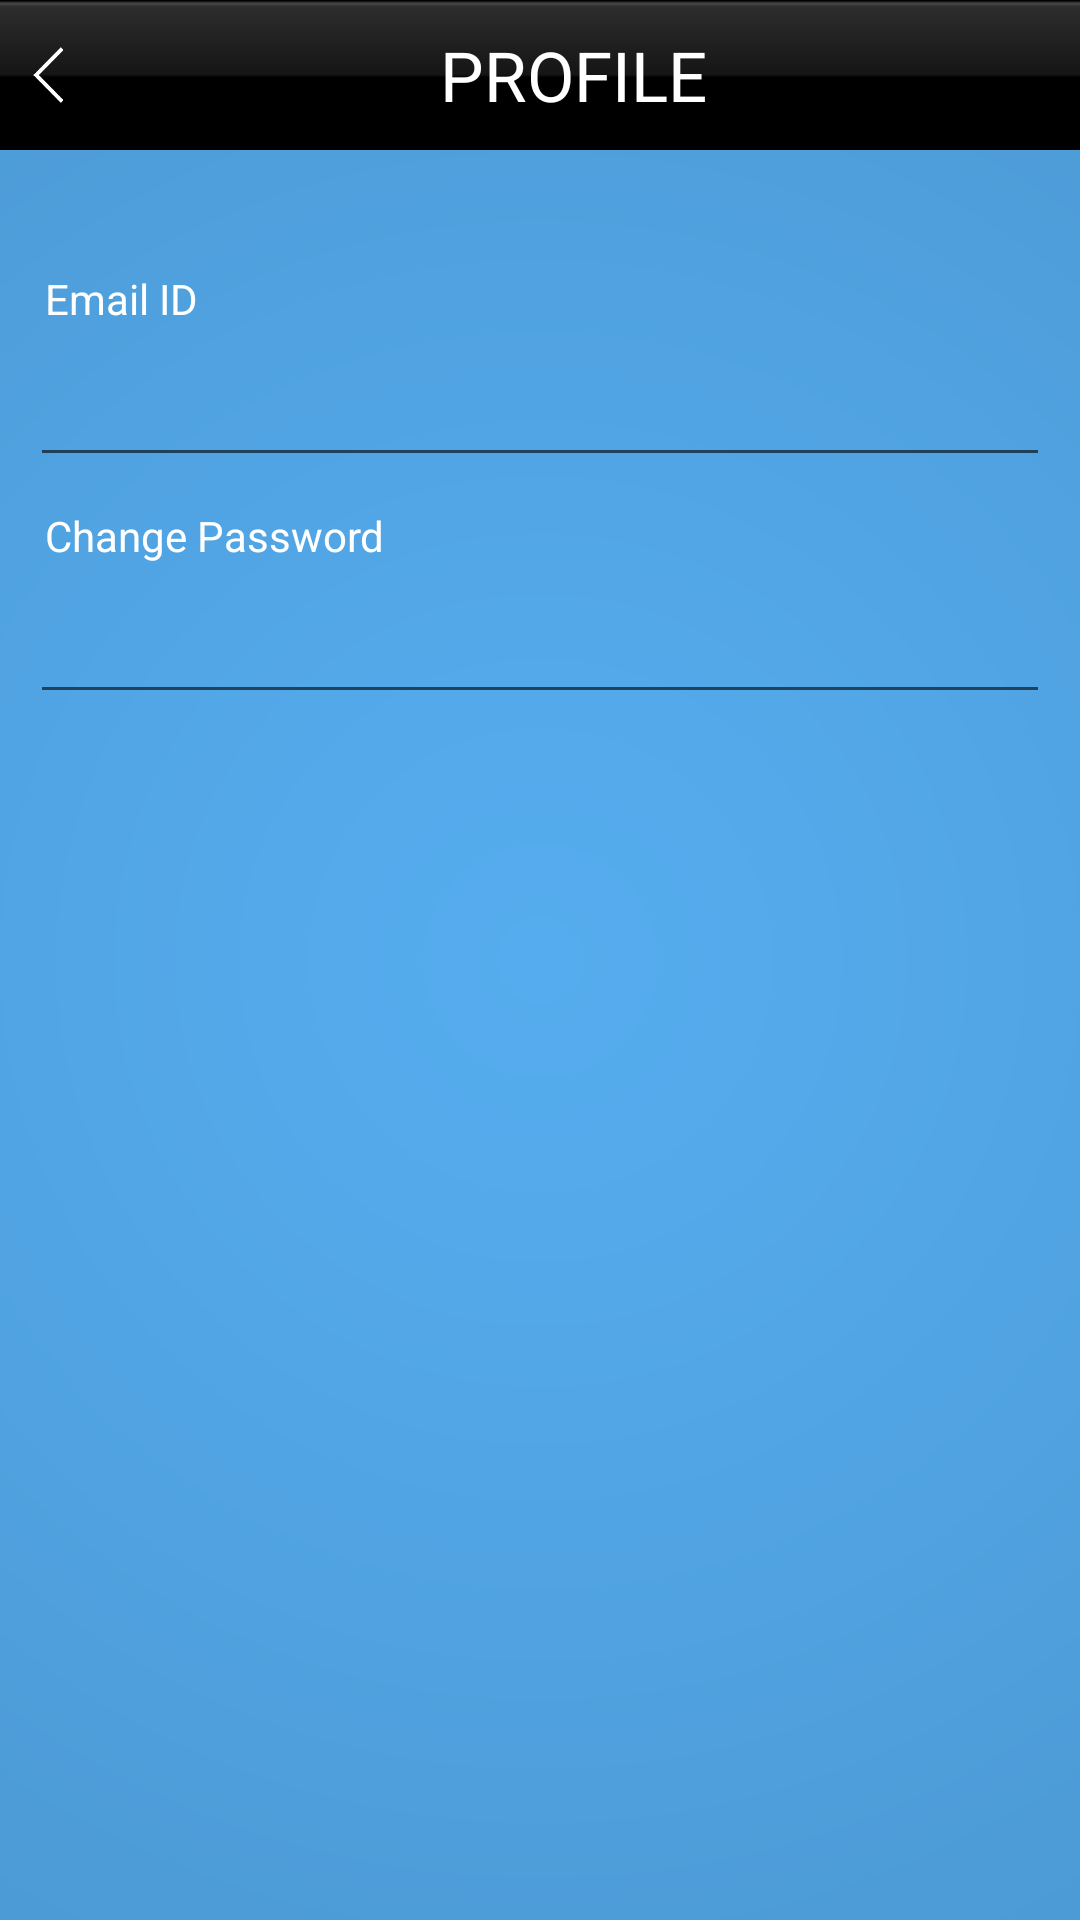

Icons on this 1080 x 1920 Android screen, each with the point to tap as (x,y):
back: (48,75)
